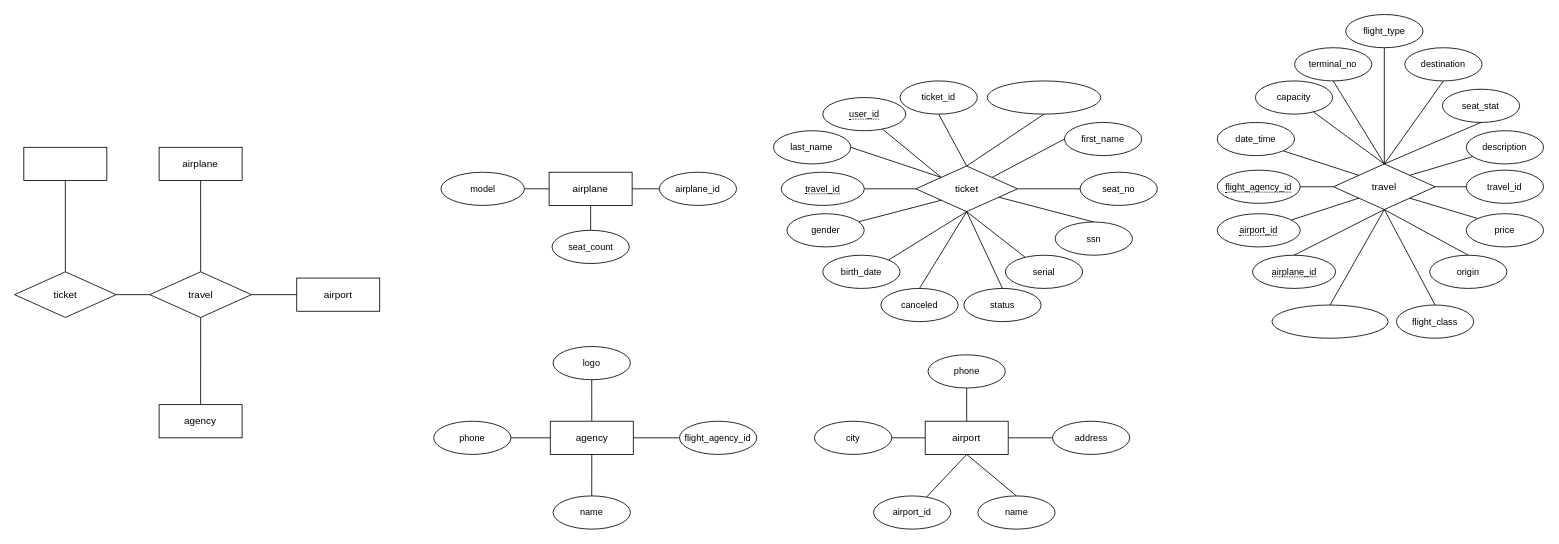
Some shapes in this 1559 by 544 pixel diagram are drawn without their labels. The shapes that lost their labels are listed below. From the top down, each one's centre as x and y in pixels, then its label:
the point at 1043,97: patment_due_datetime
the point at 65,163: user
the point at 1329,321: max_loggage_weight
